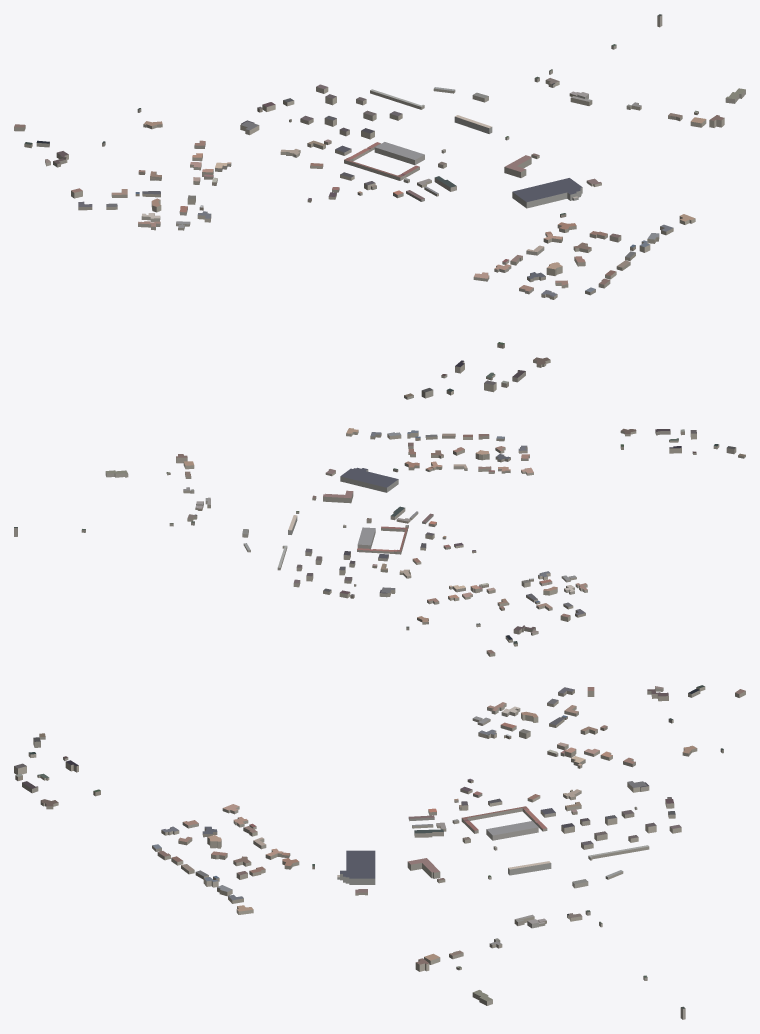
3 views of the same model, one above another, from view 1: azimuth 30°, elevation 25°; view 2: azimuth 150°, elevation 25°; view 3: azimuth 270°, elevation 25° (orthographic). The views are drawn at different scales.
Visible parts, largest first — view 1: tuile; view 2: tuile; view 3: tuile.
Boxes of the visible parts, x1,y1,x2,y2 form: tuile: [14, 14, 745, 399]; tuile: [14, 428, 745, 656]; tuile: [14, 685, 745, 1019].
Size of the model in its own units: 985 by 42.55 by 971.
